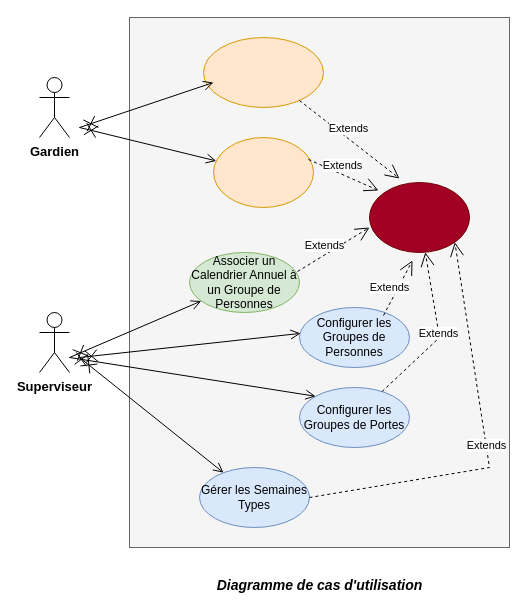
The diagram is 527 pixels wide and 615 high, and some of its shapes have lost their labels. The centre of each missing label's shape, as x and y in pixels:
"Afficher les Alarmes sur l'Écran de Contrôle" goes at pixel 263 172.
"Recevoir les Tentatives de Passage Infructueuses" goes at pixel 263 72.
"s'authentifier" goes at pixel 419 217.
